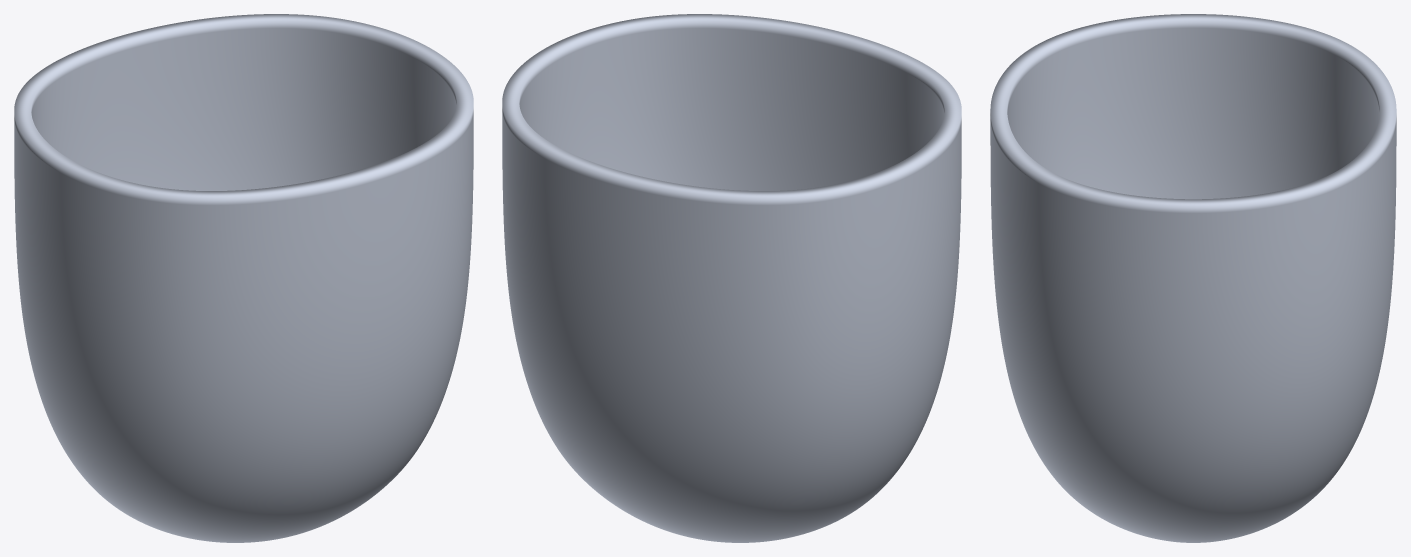
The model's file is Pot4.fbx.
The picture shows the model from 3 angles, left to right: view 1: azimuth 30°, elevation 25°; view 2: azimuth 150°, elevation 25°; view 3: azimuth 270°, elevation 25°; orthographic projection.
Parts seen in each view (by area): view 1: FlowerPot; view 2: FlowerPot; view 3: FlowerPot.
Part boxes in pixels (box(x1,y1,x2,y2)): FlowerPot: box(14, 14, 473, 542); FlowerPot: box(502, 14, 961, 542); FlowerPot: box(990, 14, 1396, 542).
Size of the model in its own units: 9.6 by 9.54 by 8.57.
